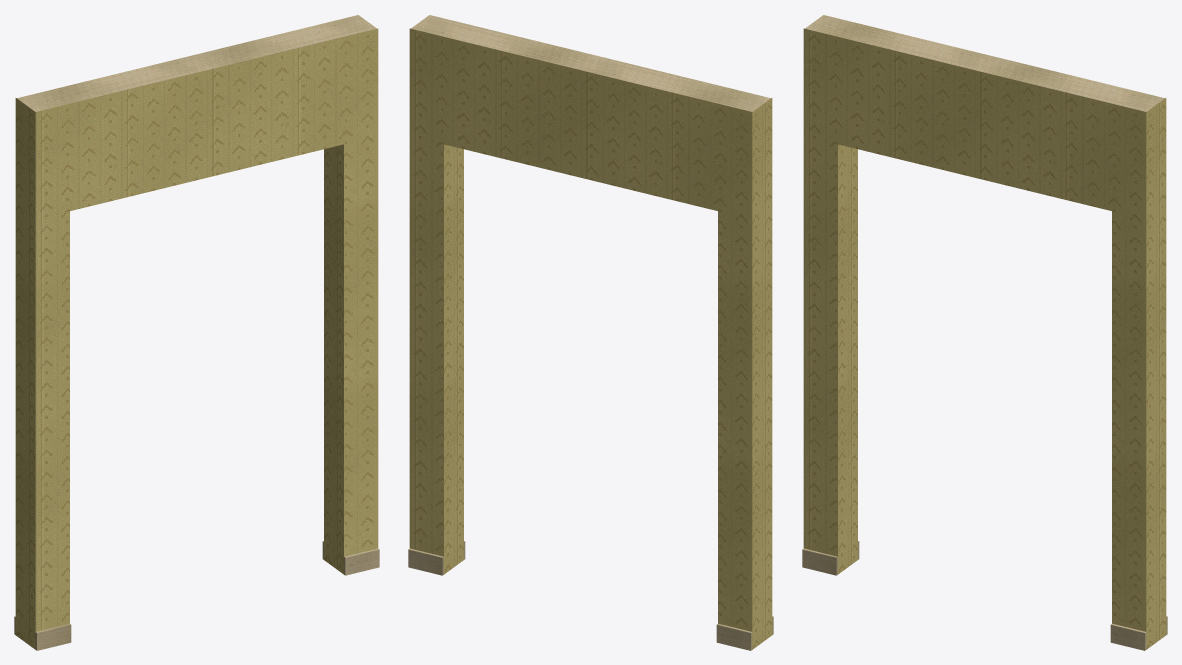
File: back_wall_doorway.glb
3 renders of one model, left to right at view 1: azimuth 30°, elevation 25°; view 2: azimuth 150°, elevation 25°; view 3: azimuth 330°, elevation 25°, orthographic.
Visible parts, largest first — view 1: back_wall_doorway; view 2: back_wall_doorway; view 3: back_wall_doorway.
Part boxes in pixels (bbox=[...]): back_wall_doorway: bbox=[14, 15, 379, 650]; back_wall_doorway: bbox=[408, 15, 773, 650]; back_wall_doorway: bbox=[802, 15, 1167, 650].
Size of the model in its own units: 2 by 3 by 0.23.
2 materials, 2 textured.
